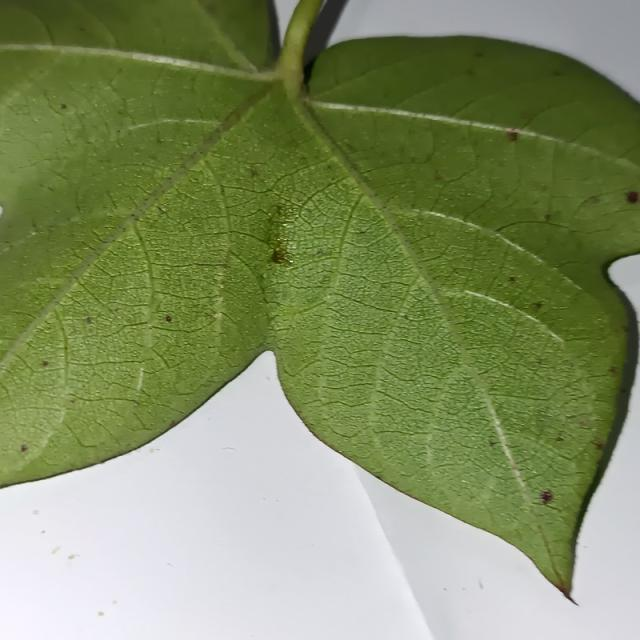Bacterial_Blight: (68, 129, 187, 233), (50, 315, 168, 412), (313, 41, 468, 107), (553, 164, 640, 248), (366, 325, 451, 407), (521, 96, 629, 152), (417, 153, 497, 221), (279, 167, 353, 229), (85, 241, 153, 296), (214, 274, 269, 338), (131, 309, 194, 356), (1, 3, 52, 52), (219, 225, 289, 258), (531, 400, 583, 444), (491, 219, 568, 241), (434, 141, 475, 182), (264, 205, 291, 265), (274, 294, 317, 328), (322, 408, 369, 439), (125, 118, 209, 134), (345, 220, 387, 249), (70, 420, 111, 447), (404, 124, 436, 158), (61, 157, 90, 187), (539, 472, 561, 508), (219, 103, 246, 129), (16, 437, 34, 461), (524, 295, 542, 317), (55, 95, 73, 116), (82, 311, 97, 331), (162, 311, 181, 324), (583, 194, 602, 206), (256, 268, 267, 287), (204, 4, 217, 17), (155, 127, 163, 145), (626, 191, 638, 203), (507, 130, 518, 142), (507, 460, 518, 471), (273, 204, 283, 216), (204, 312, 218, 320), (30, 219, 39, 231), (372, 472, 384, 481), (279, 221, 291, 230), (551, 69, 564, 77), (35, 276, 48, 284), (249, 167, 259, 177), (608, 366, 618, 376), (622, 386, 634, 394), (535, 357, 544, 366), (434, 172, 443, 181), (46, 185, 55, 193), (474, 51, 484, 58), (544, 213, 552, 221), (336, 450, 345, 457), (402, 313, 410, 320), (508, 276, 516, 283), (489, 440, 497, 447), (460, 478, 469, 484), (42, 360, 49, 367), (4, 239, 12, 245), (29, 231, 37, 237), (69, 398, 75, 404)
Cotton: (0, 0, 639, 591)
